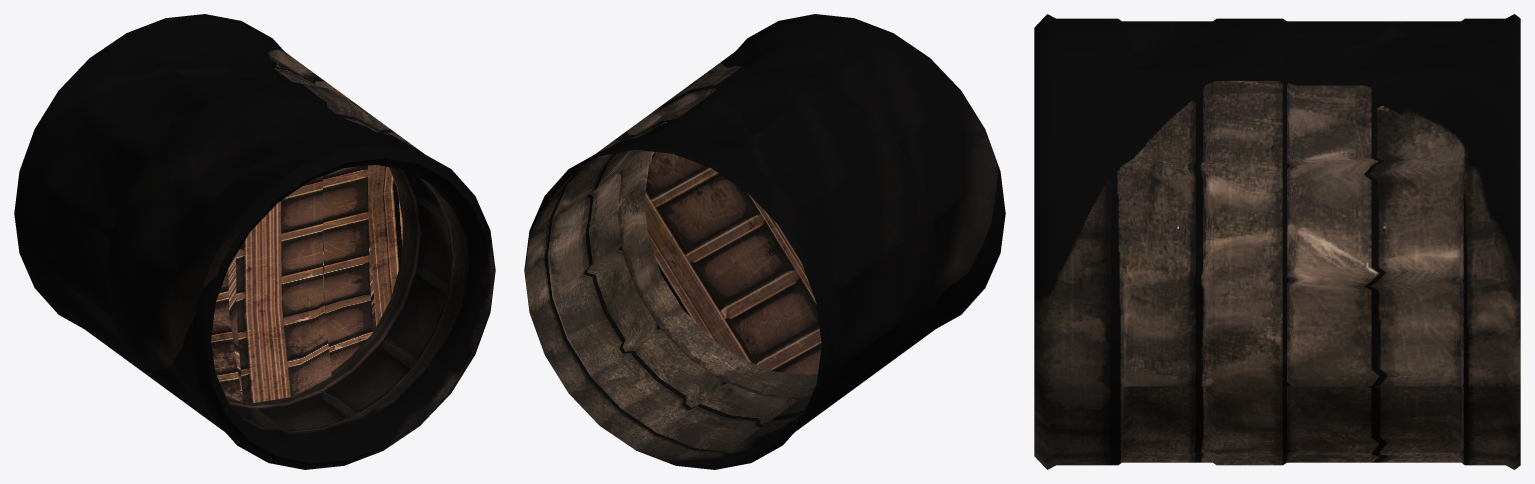
3 renders of one model, left to right at view 1: azimuth 30°, elevation 25°; view 2: azimuth 150°, elevation 25°; view 3: azimuth 270°, elevation 25°, orthographic. The views are drawn at different scales.
Parts seen in each view (by area): view 1: new_tube_final2; view 2: new_tube_final2; view 3: new_tube_final2.
Part boxes in pixels (left/top/right/bottom): new_tube_final2: left=14, top=14, right=495, bottom=469; new_tube_final2: left=524, top=14, right=1005, bottom=469; new_tube_final2: left=1034, top=14, right=1520, bottom=469.
Size of the model in its own units: 11.01 by 11.7 by 11.01.
Materials: 1 (1 with a texture image).
